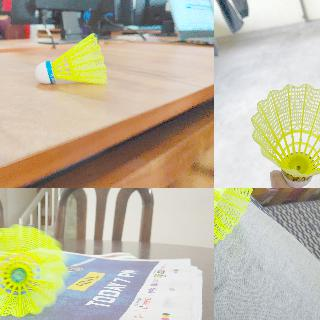shuttlecock: (251, 83, 319, 188), (0, 224, 68, 319), (34, 34, 108, 84), (214, 188, 253, 243)
